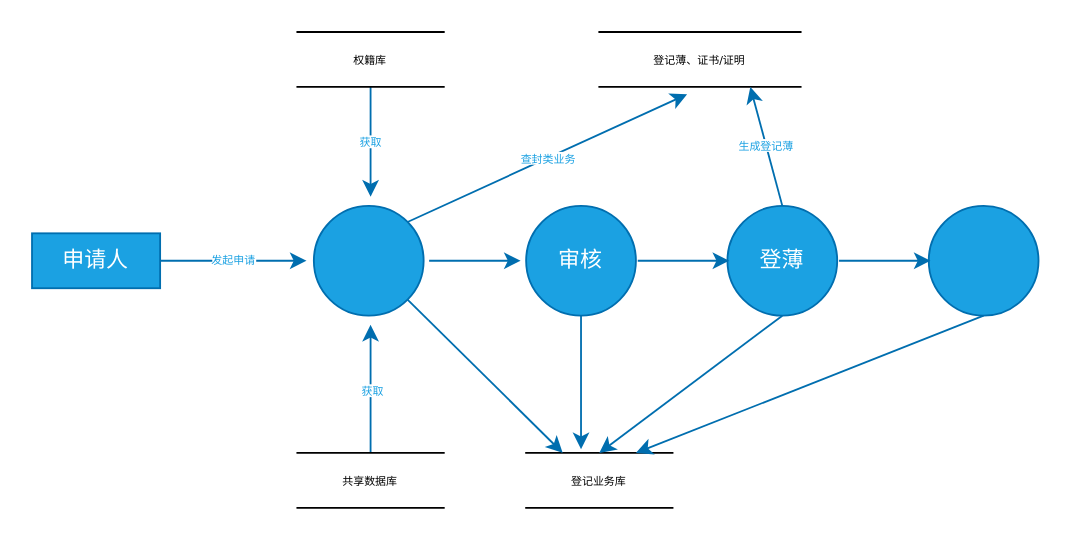
This 1071x540 diagram has some shape labels left out. Each missing label, with the centre of its shape:
发证: (983,260)
受理: (368,260)
